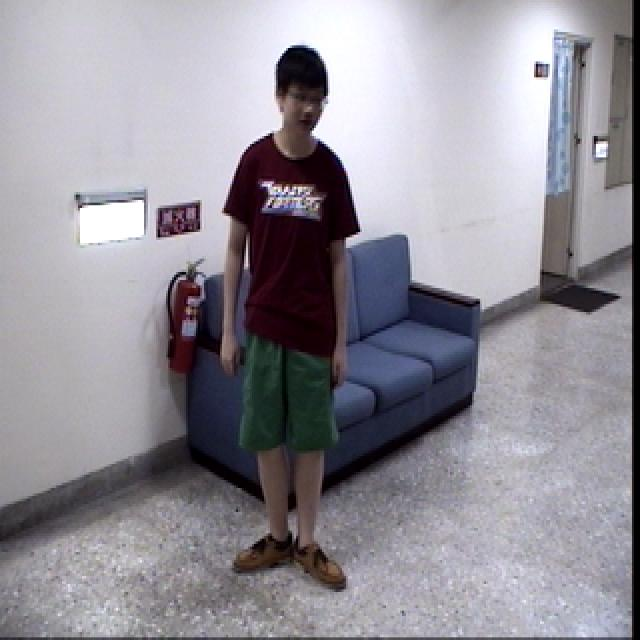stand: (215, 32, 362, 597)
